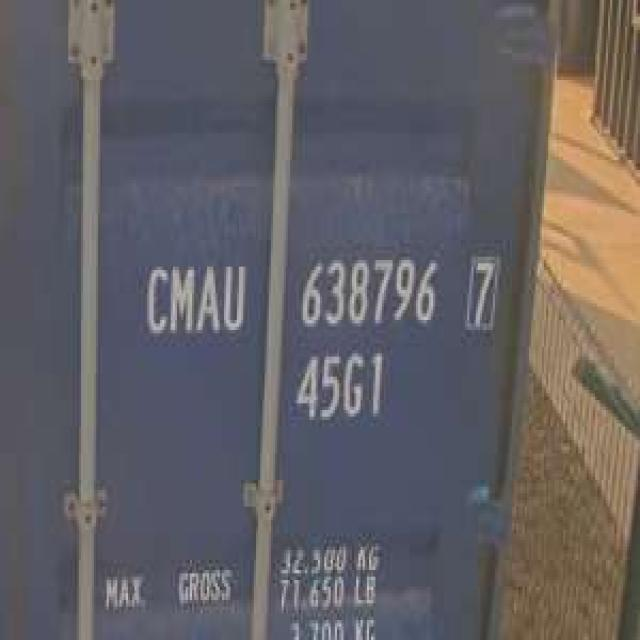dv: (458, 242, 503, 341)
owner: (140, 252, 252, 346)
serial: (294, 248, 444, 336)
size: (289, 346, 392, 426)
